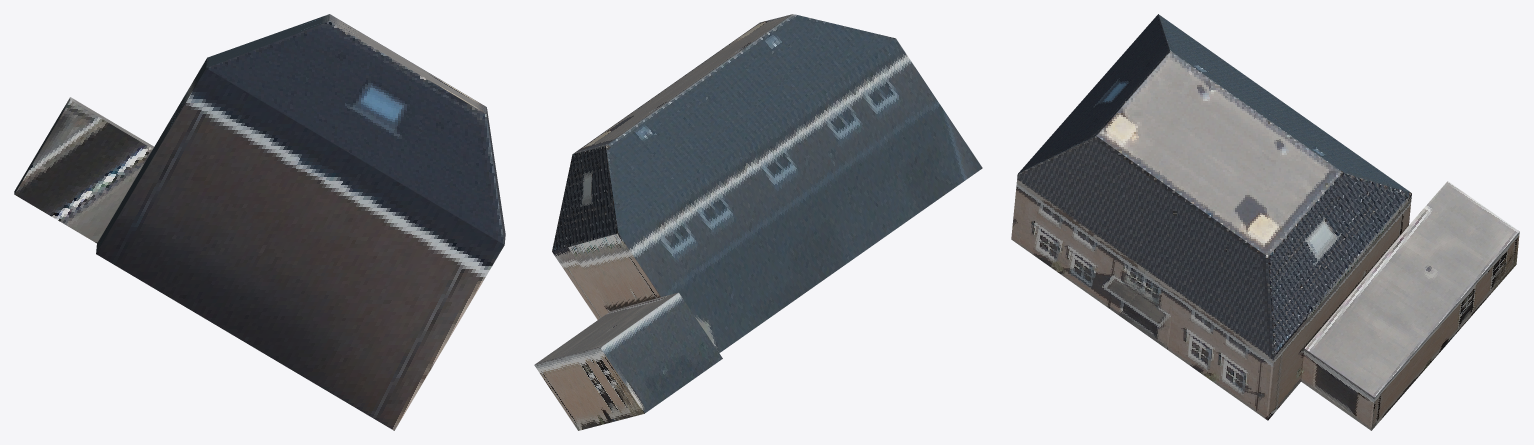
The picture shows the model from 3 angles, left to right: view 1: azimuth 30°, elevation 25°; view 2: azimuth 150°, elevation 25°; view 3: azimuth 270°, elevation 25°; orthographic projection. The views are drawn at different scales.
Visible parts, largest first — view 1: BAG_0599100000753166; view 2: BAG_0599100000753166 (×2); view 3: BAG_0599100000753166 (×2).
Part boxes in pixels (box(x1,y1,x2,y2)): BAG_0599100000753166: box(14, 14, 505, 430); BAG_0599100000753166 (×2): box(534, 14, 982, 430); BAG_0599100000753166 (×2): box(1011, 14, 1519, 430).
Size of the model in its own units: 16.9 by 16.07 by 22.29.
Materials: 2 (2 with a texture image).
